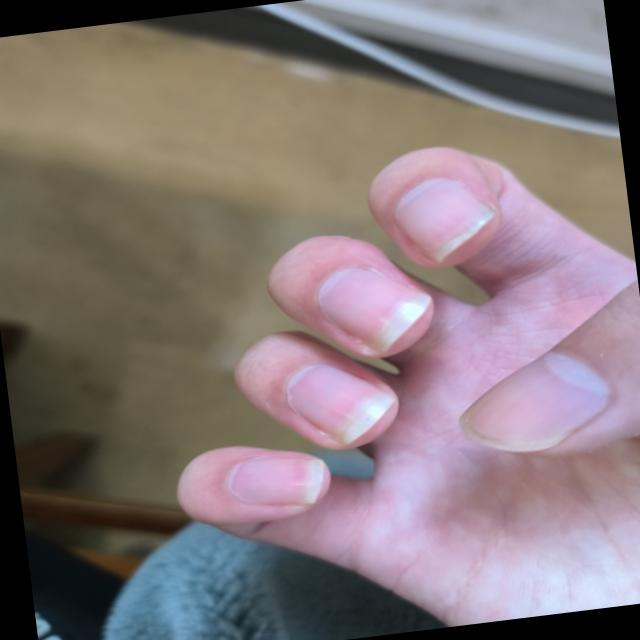Nail: (459, 351, 609, 451), (317, 267, 428, 353), (392, 178, 494, 263), (285, 365, 393, 441), (228, 458, 321, 506)
